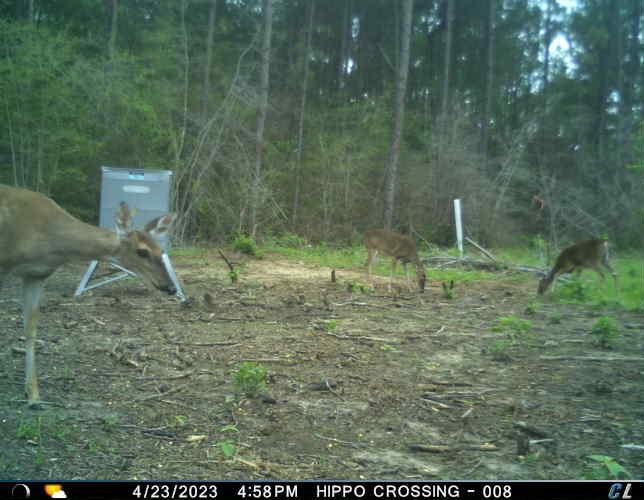Deer: (0, 178, 182, 414), (535, 234, 624, 304), (359, 224, 429, 296)
